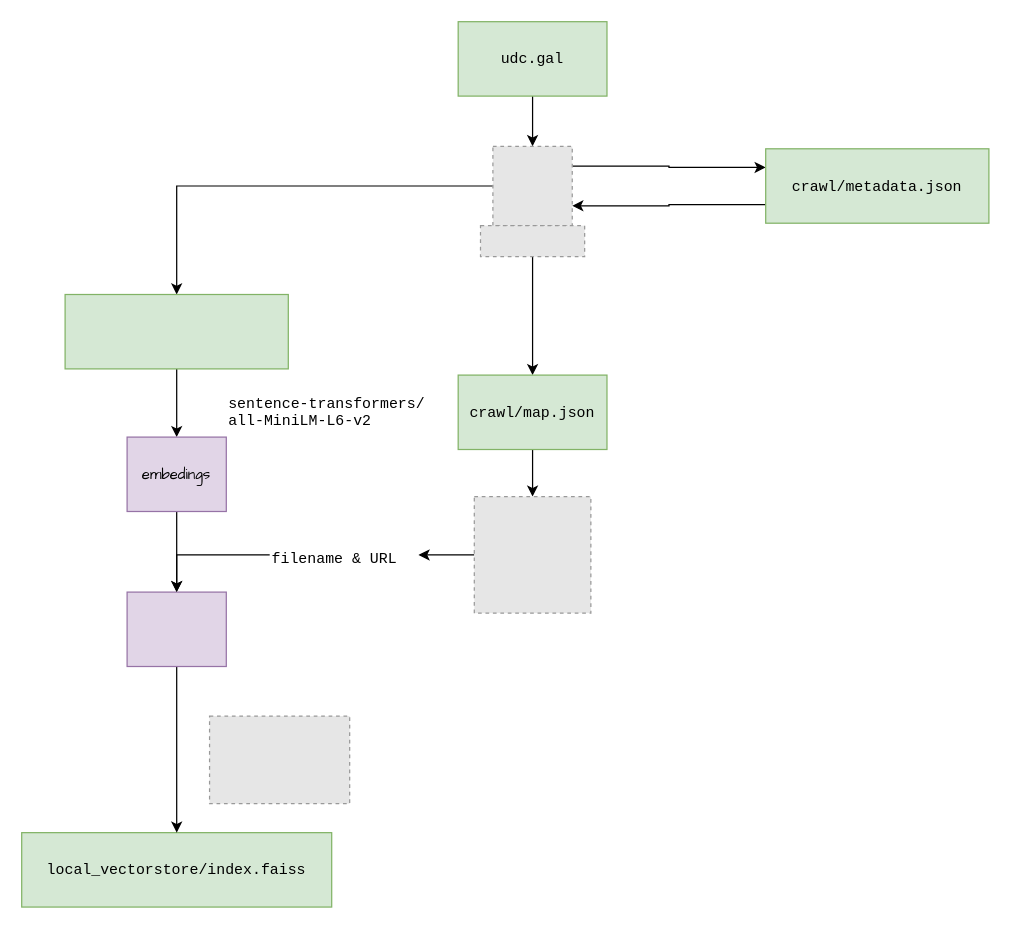
Image size: 1011x929. Some labels were removed from this diagram. Grey dashed boxes stand in for pictures. Here are the shapes that lost their labels. From the top down, the box of each, then its label:
(64, 293, 288, 369): crawl/crawled_data/*
(126, 591, 226, 666): chunks
